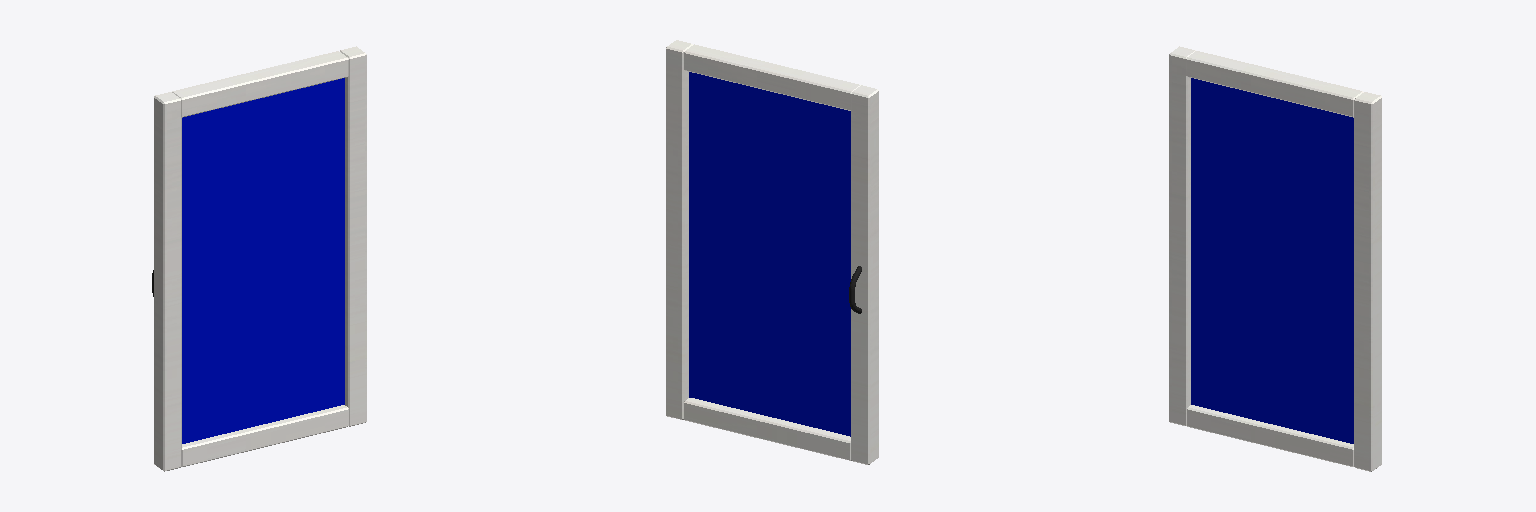
The picture shows the model from 3 angles: view 1: azimuth 30°, elevation 25°; view 2: azimuth 150°, elevation 25°; view 3: azimuth 330°, elevation 25°; orthographic projection.
Parts seen in each view (by area): view 1: Object177, Object175; view 2: Object177, Object175; view 3: Object177, Object175.
Part boxes in pixels (x1,y1,x2,y2): Object177: (182,78,344,443); Object175: (154,46,366,471); Object177: (689,72,850,436); Object175: (666,40,878,464); Object177: (1191,78,1353,443); Object175: (1169,46,1381,471).
Size of the model in its own units: 438 by 758 by 72.94.
3 materials, 1 textured.